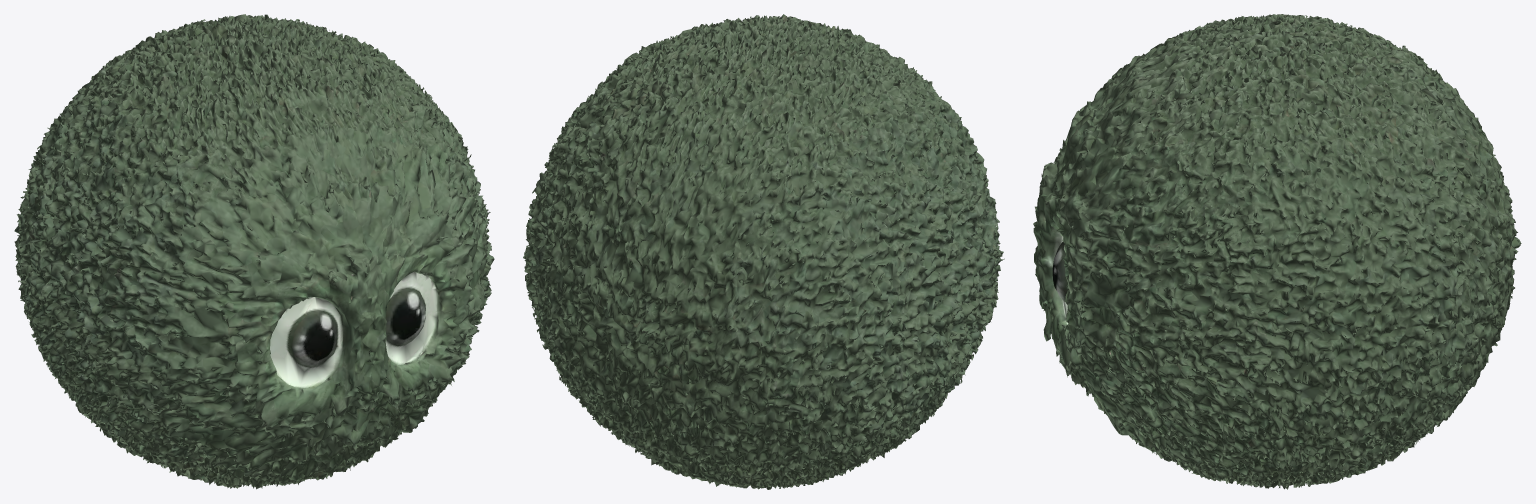
Rendered from Physics-avatar-opt.glb.
The picture shows the model from 3 angles, left to right: view 1: azimuth 30°, elevation 25°; view 2: azimuth 150°, elevation 25°; view 3: azimuth 270°, elevation 25°; orthographic projection.
Parts seen in each view (by area): view 1: mesh_node; view 2: mesh_node; view 3: mesh_node.
Boxes of the visible parts, left/top/right/bottom form: mesh_node: left=14, top=14, right=494, bottom=489; mesh_node: left=523, top=14, right=1004, bottom=489; mesh_node: left=1033, top=14, right=1521, bottom=489.
Size of the model in its own units: 1.84 by 1.86 by 1.89.
Materials: 1 (1 with a texture image).
